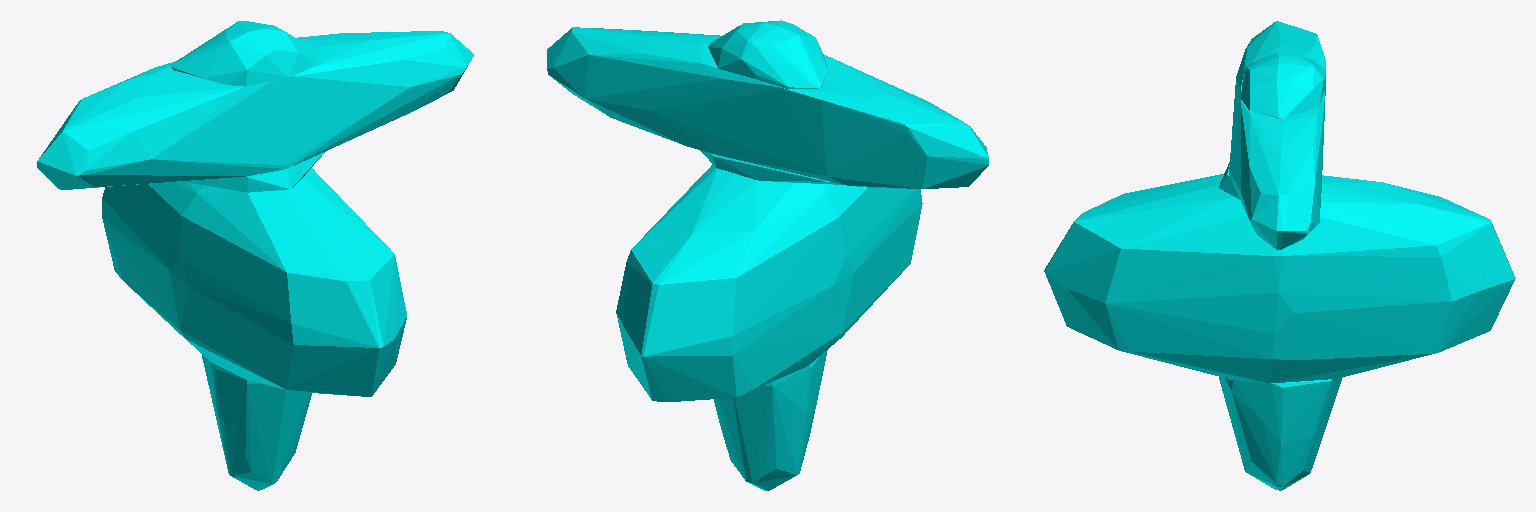
The robot description file, URDF, robot "blob471":
<robot name="blob471">
  <link name="random_obj_471">
    <contact>
      <lateral_friction value="1.0"/>
      <rolling_friction value="0.0"/>
      <inertia_scaling value="3.0"/>
      <contact_cfm value="0.0"/>
      <contact_erp value="1.0"/>
    </contact>
    <inertial>
      <origin rpy="0 0 0" xyz="0 0 0"/>
      <mass value="0.1"/>
      <inertia ixx="1" ixy="0" ixz="0" iyy="1" iyz="0" izz="0"/>
    </inertial>
    <visual>
      <origin rpy="0 0 0" xyz="0 0 0"/>
      <geometry>
        <mesh filename="471.obj" scale="0.015 0.015 0.015"/>
      </geometry>
      <material name="blockmat">
        <color rgba="0.03 0.97 0.97 1"/>
      </material>
    </visual>
    <collision>
      <origin rpy="0 0 0" xyz="0 0 0"/>
      <geometry>
        <mesh filename="471.obj" scale="0.015 0.015 0.015"/>
      </geometry>
    </collision>
  </link>
</robot>

--- What the picture shows (computed from the rendered views, not written in the file) ---
The picture shows the robot from 3 angles, left to right: view 1: azimuth 30°, elevation 25°; view 2: azimuth 150°, elevation 25°; view 3: azimuth 270°, elevation 25°; orthographic projection.
Model blob471 with 1 links and 0 joints (none), rooted at random_obj_471, posed every joint at zero.
Links seen in each view (by area): view 1: random_obj_471; view 2: random_obj_471; view 3: random_obj_471.
Boxes of the visible links, box(x1,y1,x2,y2) form: random_obj_471: box(37, 21, 473, 490); random_obj_471: box(547, 20, 988, 490); random_obj_471: box(1044, 21, 1515, 490).
Size in the robot's own frame: 0.0904 by 0.0908 by 0.0913 metres.
Meshes: 1 distinct files referenced, 1 mesh visuals loaded (1 OBJ).